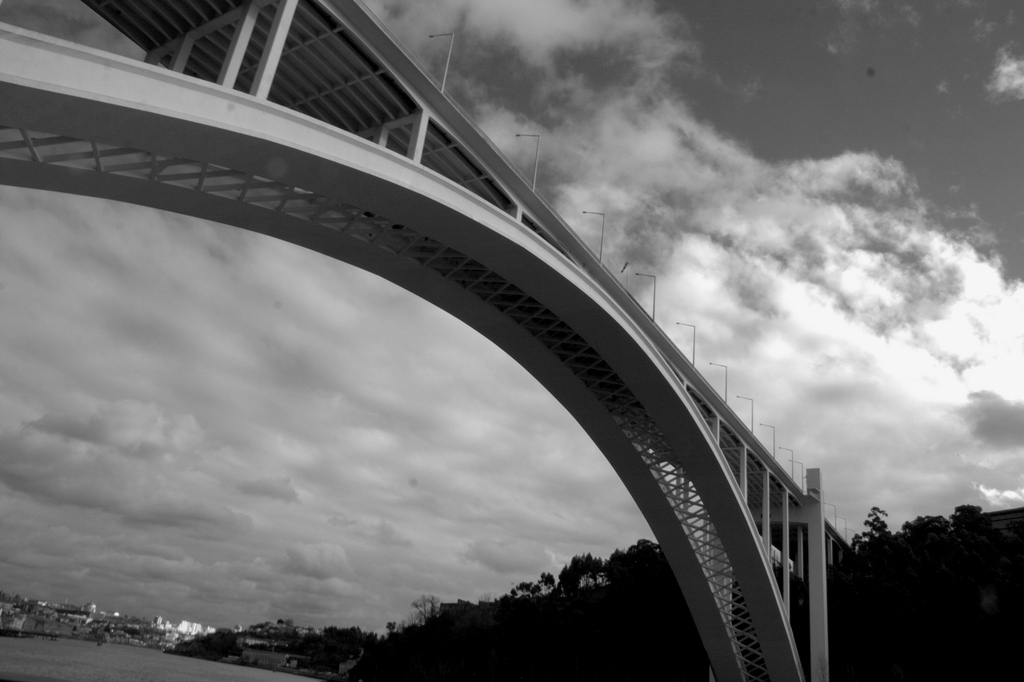arrabida: (0, 0, 854, 681)
